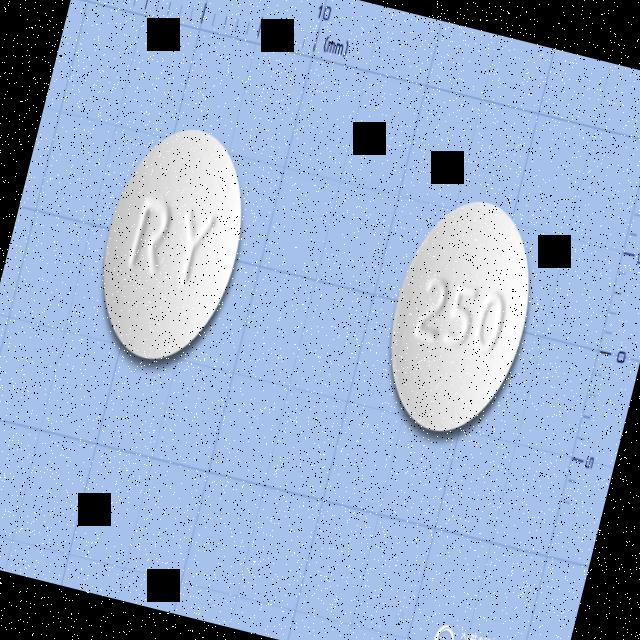Cipurocin: (362, 178, 558, 462), (74, 106, 270, 384)
